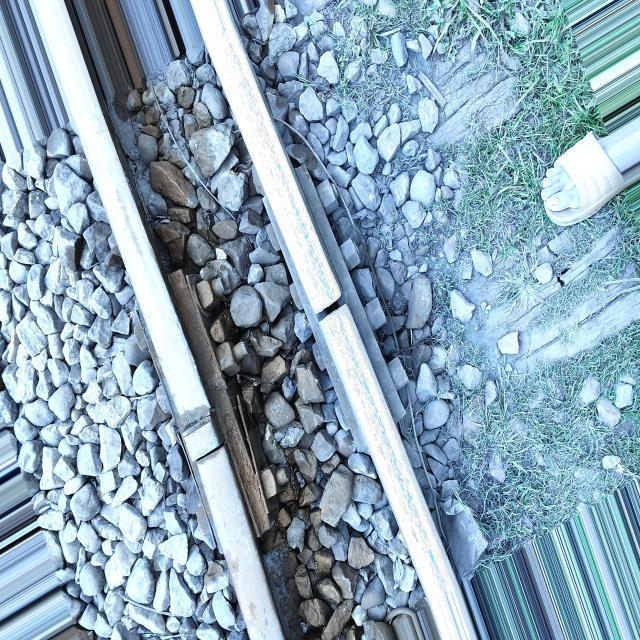Defective Joint: (131, 268, 297, 563)
Good Joint: (254, 161, 414, 455)
